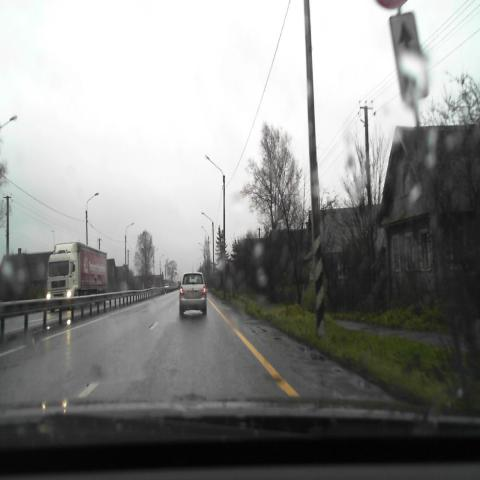8_2_4: (390, 12, 428, 104)
